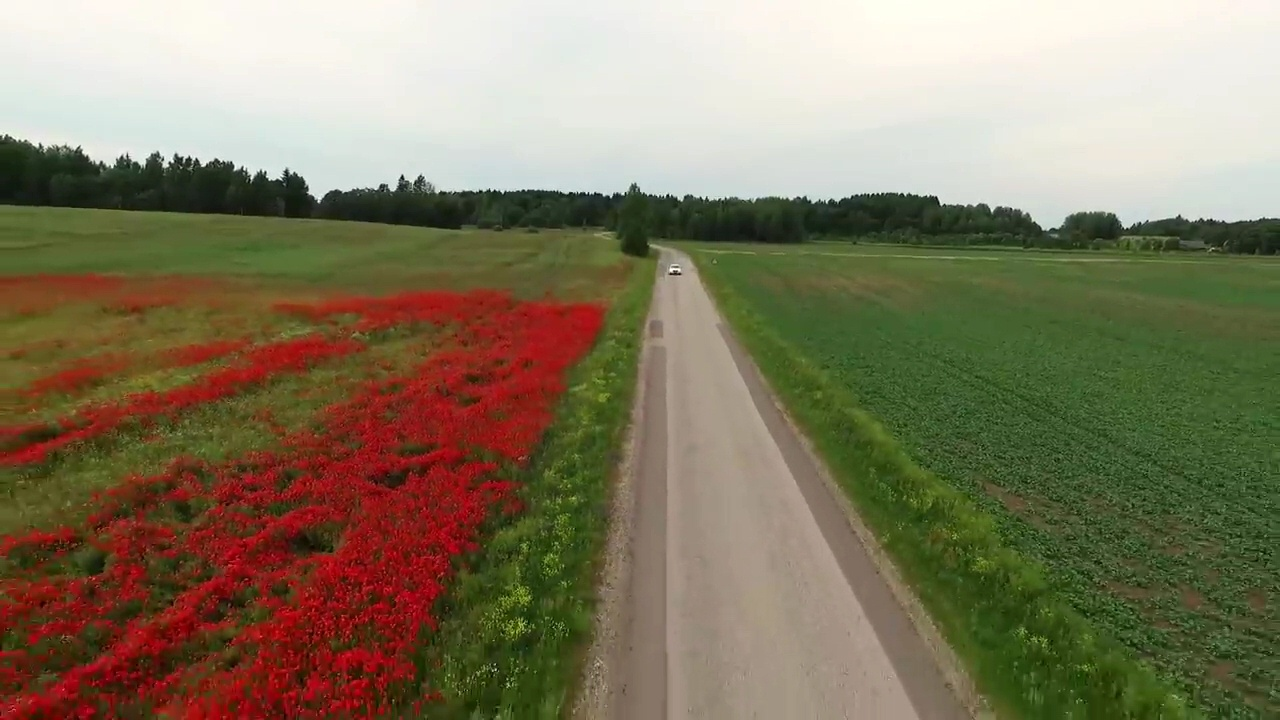araba: (667, 262, 682, 273)
